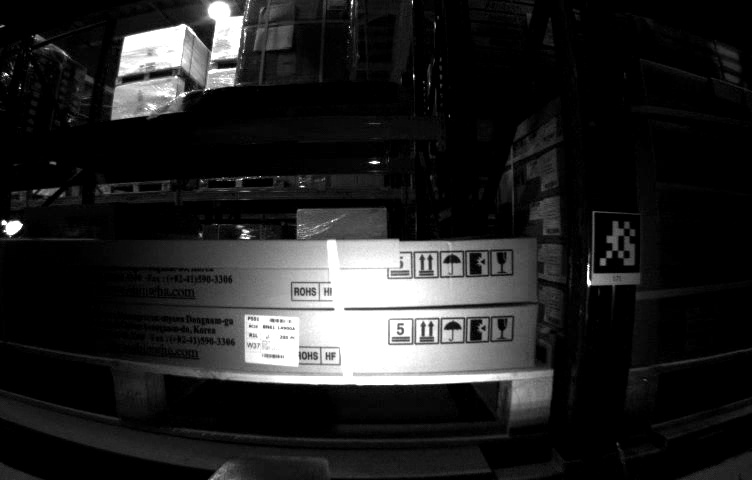True Barcode: (242, 315, 297, 367), (695, 299, 734, 347)
